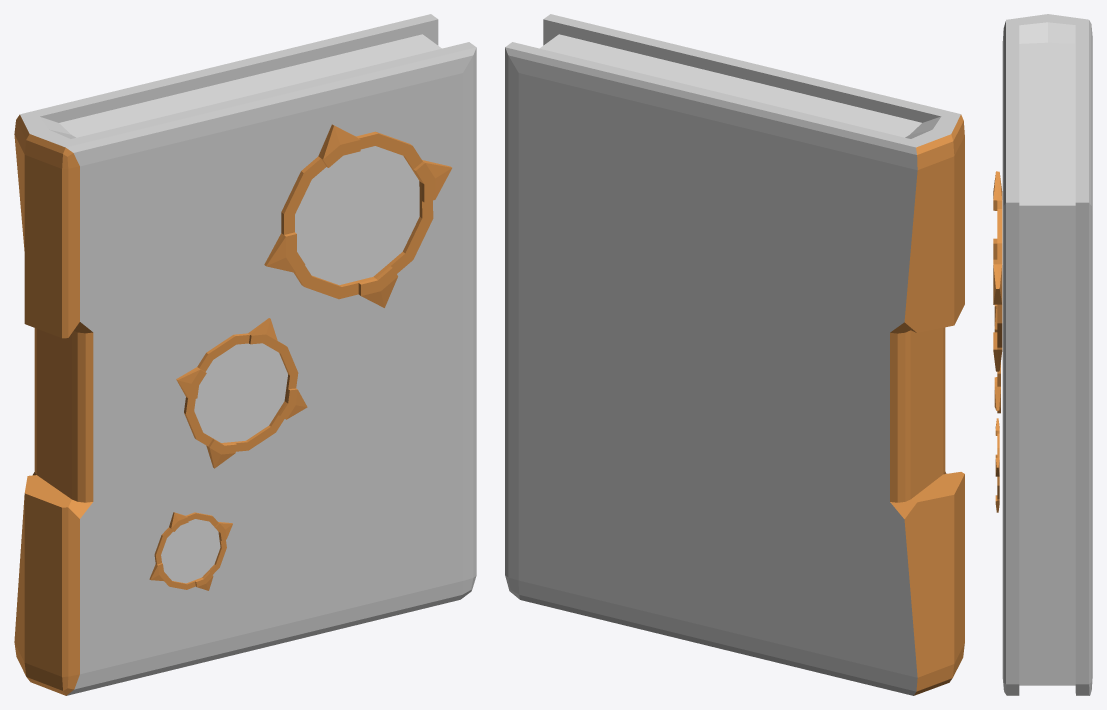
File: CircleBook.fbx
3 renders of one model, left to right at view 1: azimuth 30°, elevation 25°; view 2: azimuth 150°, elevation 25°; view 3: azimuth 270°, elevation 25°, orthographic. The views are drawn at different scales.
Visible parts, largest first — view 1: Cube.089; view 2: Cube.089; view 3: Cube.089.
Boxes of the visible parts, x1,y1,x2,y2 form: Cube.089: (14,14,476,695); Cube.089: (505,14,964,695); Cube.089: (993,14,1092,695).
Bounding box in the file's own units: 43.21 × 52.96 × 9.51.
